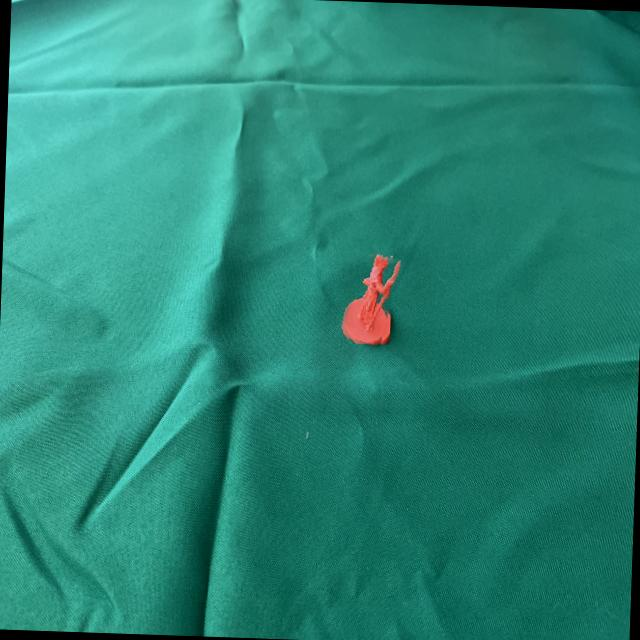amon_follower: (341, 254, 400, 346)
